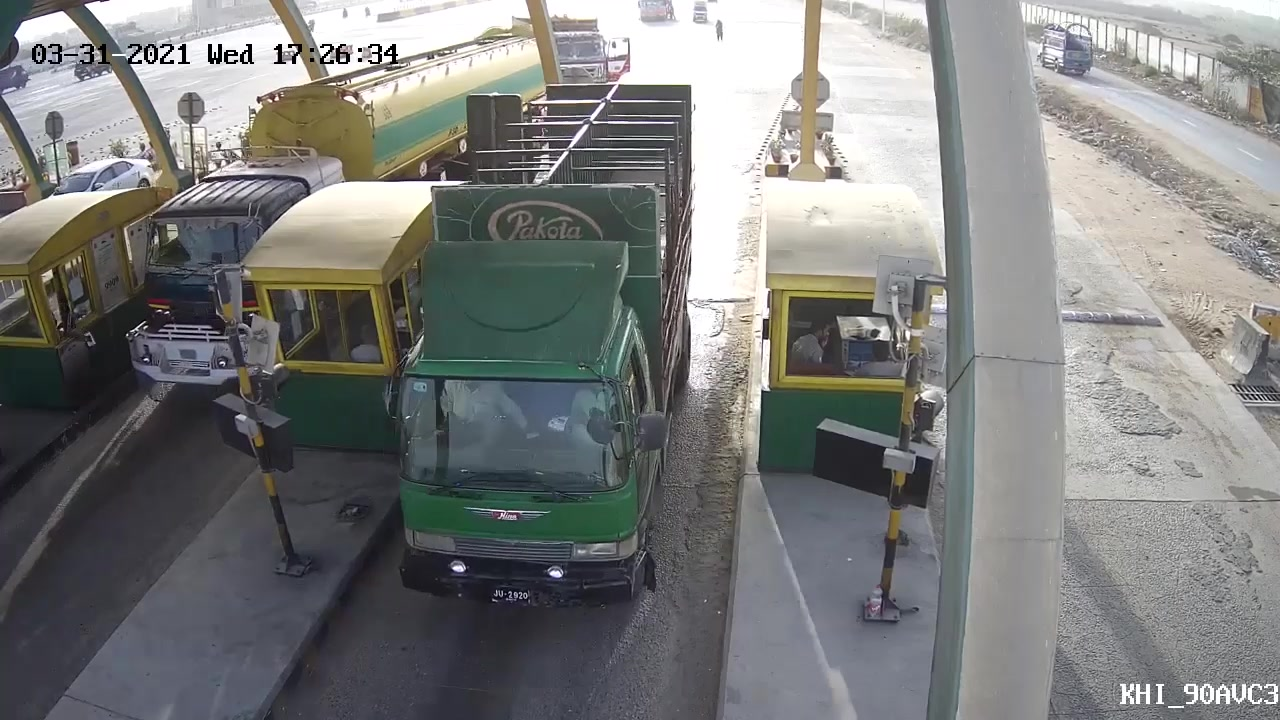F5: (387, 83, 690, 614)
